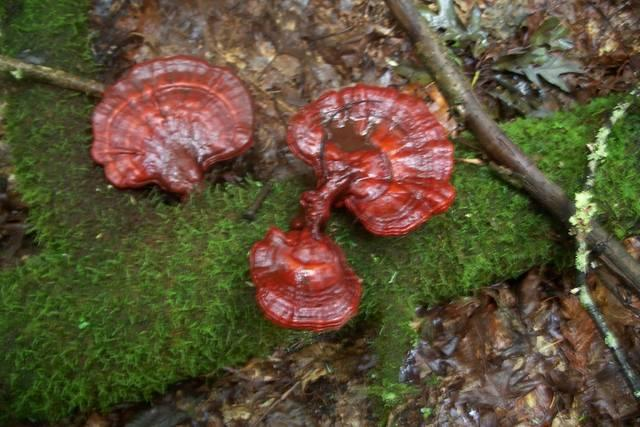poisonous_mushroom: (247, 81, 457, 332), (88, 53, 256, 201)
